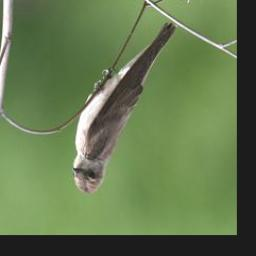Swallow: (71, 20, 180, 196)
